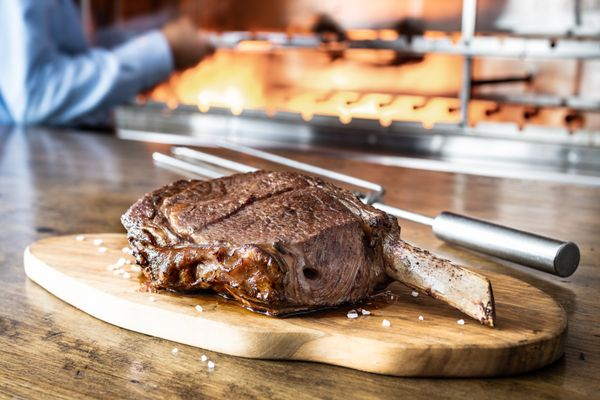sandwich: (372, 197, 581, 279)
